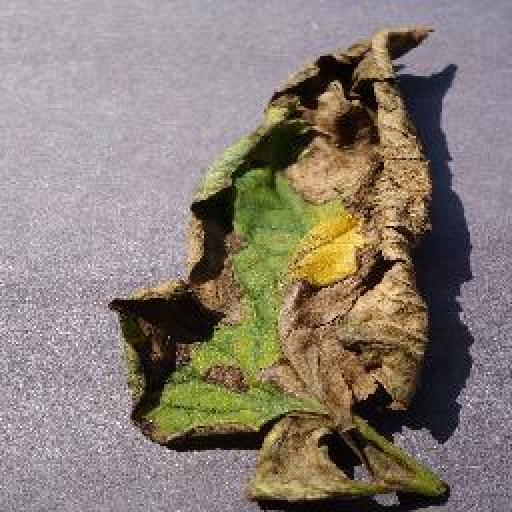disease_tomato: (106, 23, 434, 504)
